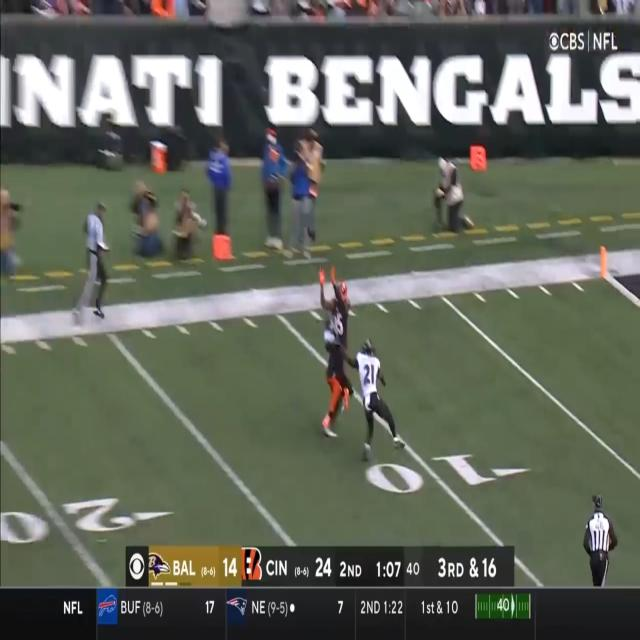Ball: (306, 224, 316, 243)
